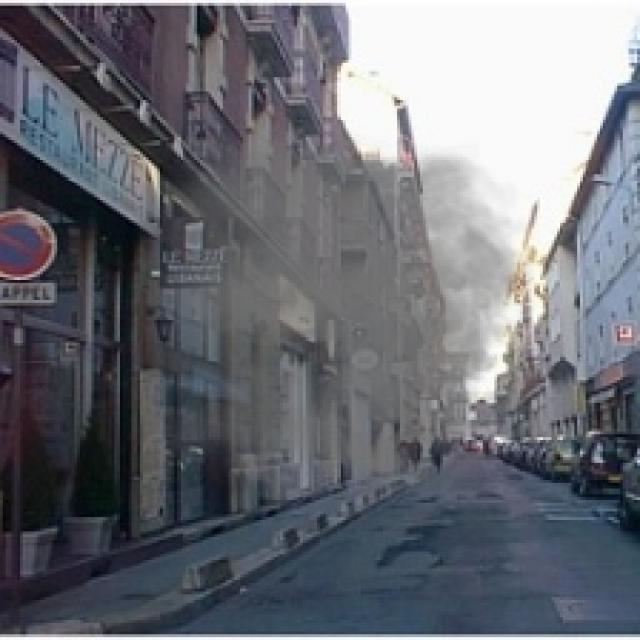smoke: (140, 132, 546, 497)
